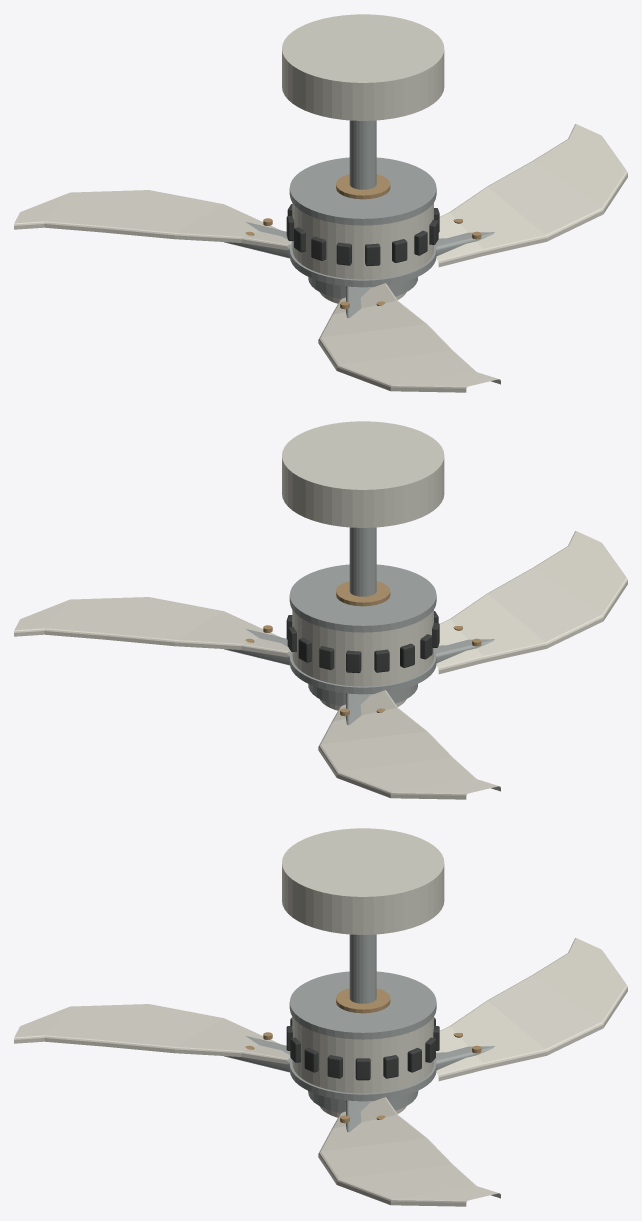
File: A154_workshop_ceiling_fan.glb
The picture shows the model from 3 angles, top to bottom: view 1: azimuth 30°, elevation 25°; view 2: azimuth 150°, elevation 25°; view 3: azimuth 270°, elevation 25°; orthographic projection.
Parts seen in each view (by area): view 1: Ceiling canopy, Formed fan blade 1, Formed fan blade 3, Formed fan blade 2, Motor upper band, Stationary motor housing, Fixed downrod, Motor lower band, Downrod coupling, Rotor bearing hub, Blade bracket 2, Blade bracket 1; view 2: Ceiling canopy, Formed fan blade 3, Formed fan blade 2, Formed fan blade 1, Motor upper band, Stationary motor housing, Fixed downrod, Motor lower band, Downrod coupling, Rotor bearing hub, Blade bracket 1, Blade bracket 3; view 3: Ceiling canopy, Formed fan blade 2, Formed fan blade 1, Formed fan blade 3, Motor upper band, Stationary motor housing, Fixed downrod, Motor lower band, Downrod coupling, Rotor bearing hub, Blade bracket 3, Blade bracket 2.
Part boxes in pixels (left/top/right/bottom): Ceiling canopy: left=282, top=14, right=444, bottom=120; Formed fan blade 1: left=436, top=124, right=627, bottom=267; Formed fan blade 3: left=318, top=283, right=500, bottom=392; Formed fan blade 2: left=14, top=190, right=291, bottom=250; Motor upper band: left=289, top=157, right=436, bottom=225; Stationary motor housing: left=292, top=203, right=433, bottom=279; Fixed downrod: left=349, top=120, right=376, bottom=189; Motor lower band: left=289, top=242, right=436, bottom=287; Downrod coupling: left=336, top=174, right=390, bottom=199; Rotor bearing hub: left=308, top=277, right=417, bottom=298; Blade bracket 2: left=224, top=222, right=292, bottom=258; Blade bracket 1: left=435, top=232, right=494, bottom=255; Ceiling canopy: left=282, top=421, right=444, bottom=527; Formed fan blade 3: left=436, top=531, right=627, bottom=674; Formed fan blade 2: left=318, top=690, right=500, bottom=799; Formed fan blade 1: left=14, top=597, right=290, bottom=657; Motor upper band: left=289, top=564, right=436, bottom=632; Stationary motor housing: left=292, top=610, right=433, bottom=686; Fixed downrod: left=349, top=527, right=376, bottom=596; Motor lower band: left=289, top=649, right=436, bottom=694; Downrod coupling: left=336, top=581, right=390, bottom=606; Rotor bearing hub: left=308, top=684, right=417, bottom=705; Blade bracket 1: left=224, top=629, right=290, bottom=665; Blade bracket 3: left=434, top=639, right=494, bottom=662; Ceiling canopy: left=282, top=828, right=444, bottom=934; Formed fan blade 2: left=436, top=938, right=627, bottom=1081; Formed fan blade 1: left=318, top=1097, right=500, bottom=1206; Formed fan blade 3: left=14, top=1004, right=290, bottom=1064; Motor upper band: left=289, top=971, right=436, bottom=1039; Stationary motor housing: left=292, top=1017, right=433, bottom=1093; Fixed downrod: left=349, top=934, right=376, bottom=1003; Motor lower band: left=289, top=1058, right=436, bottom=1101; Downrod coupling: left=336, top=988, right=390, bottom=1013; Rotor bearing hub: left=308, top=1091, right=418, bottom=1112; Blade bracket 3: left=224, top=1036, right=290, bottom=1072; Blade bracket 2: left=435, top=1046, right=494, bottom=1069.
Bounding box in the file's own units: 1.18 × 0.511 × 1.17.
